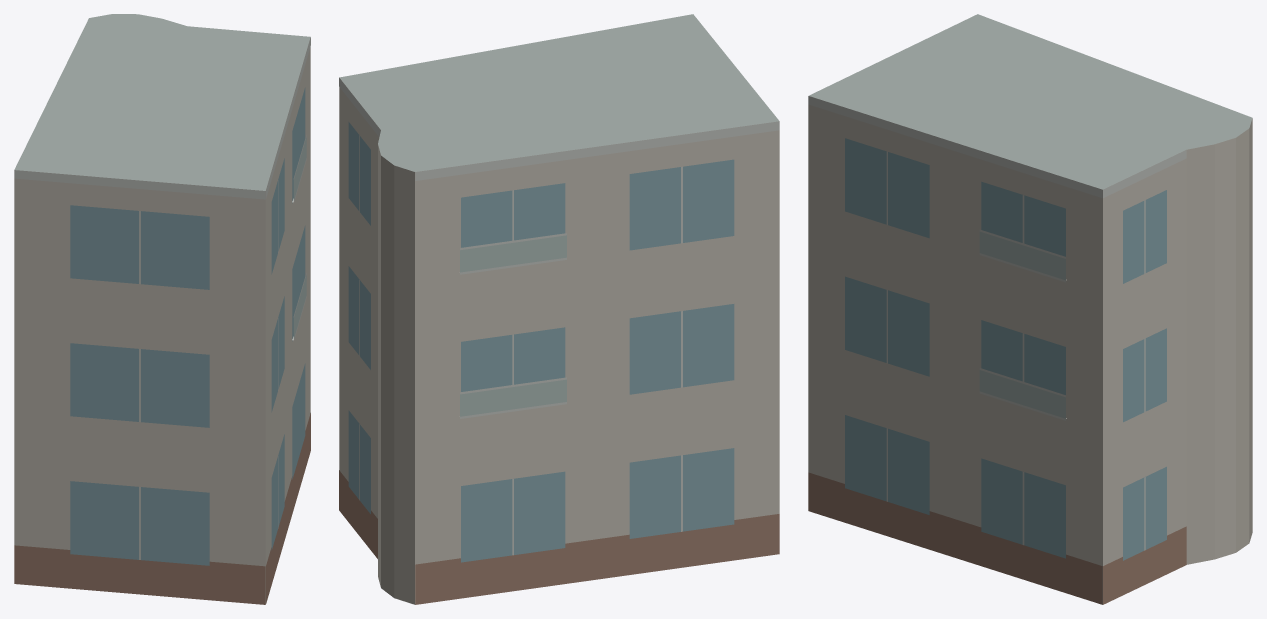
Rendered from survey-upis-32962085.glb.
3 views of the same model, side by side, from view 1: azimuth 30°, elevation 25°; view 2: azimuth 150°, elevation 25°; view 3: azimuth 270°, elevation 25° (orthographic). The views are drawn at different scales.
Parts seen in each view (by area): view 1: survey-upis-32962085.tmp; view 2: survey-upis-32962085.tmp; view 3: survey-upis-32962085.tmp.
Boxes of the visible parts, x1,y1,x2,y2 form: survey-upis-32962085.tmp: (14,14,310,604); survey-upis-32962085.tmp: (339,14,779,604); survey-upis-32962085.tmp: (808,14,1252,604).
Size of the model in its own units: 10.63 by 11.7 by 11.35.
